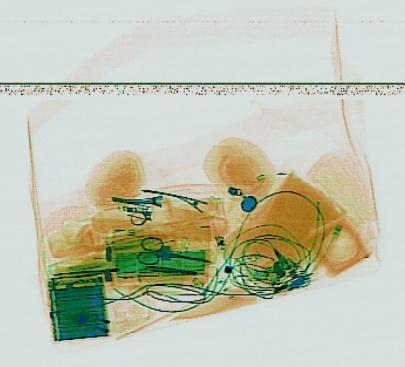Scissors: (134, 234, 214, 273)
